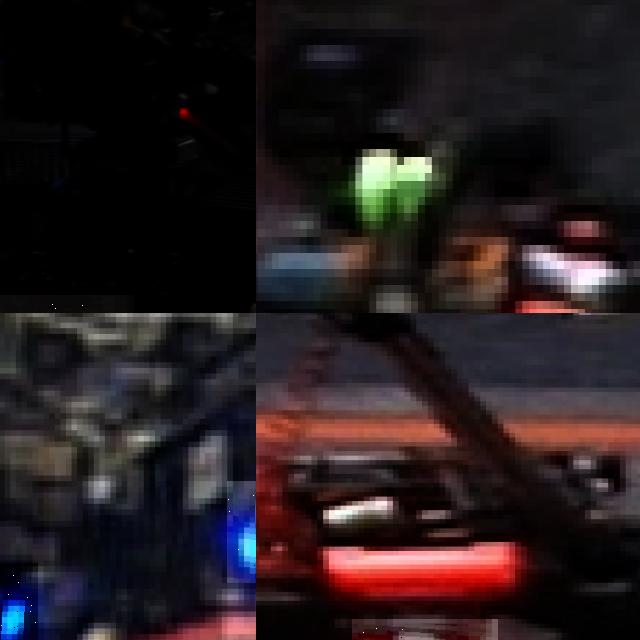B2: (227, 481, 256, 583), (0, 563, 38, 640)
R2: (352, 619, 497, 640)
